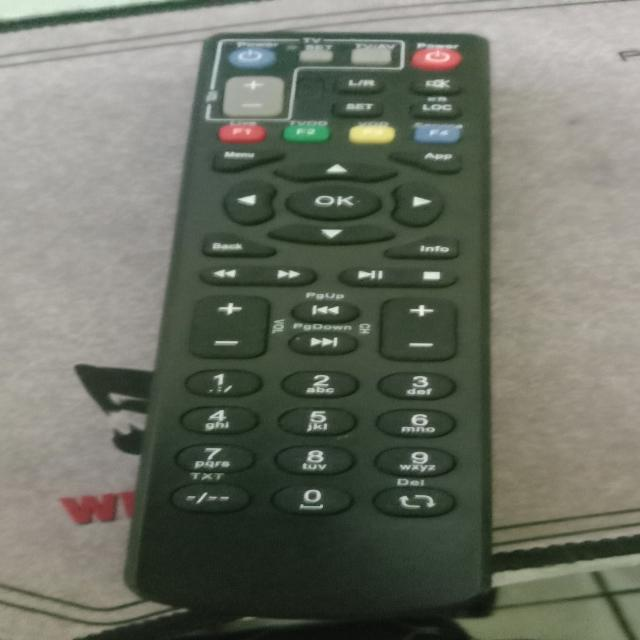remote: (118, 28, 505, 609)
